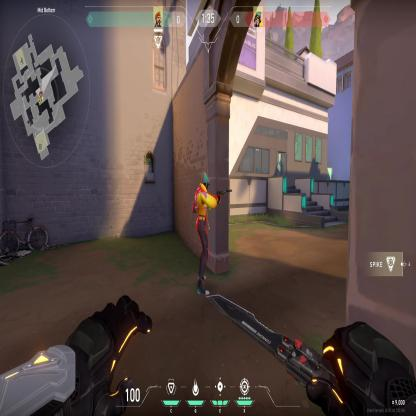enemy: (191, 171, 215, 298)
